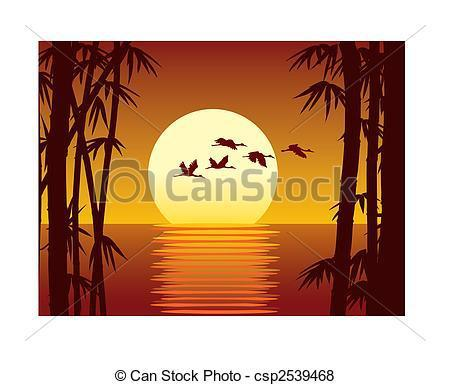bird: (171, 158, 208, 180), (280, 142, 316, 160), (240, 150, 275, 168), (204, 154, 238, 171), (209, 137, 247, 152)
